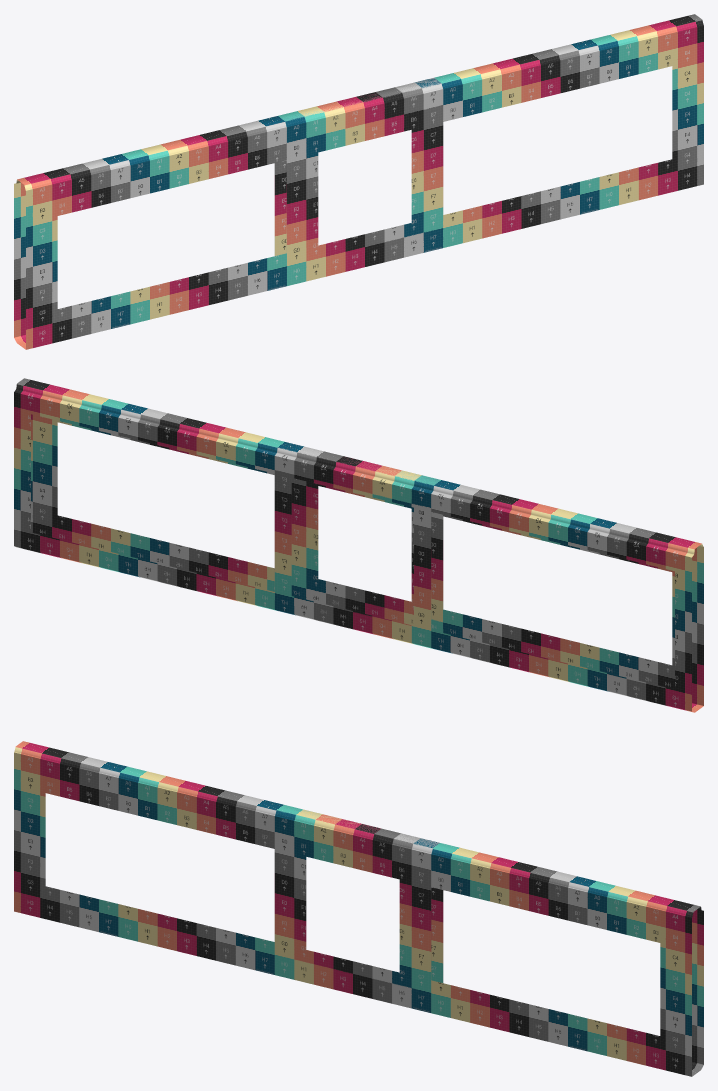
File: bigPlainHole.glb
3 views of the same model, one above another, from view 1: azimuth 30°, elevation 25°; view 2: azimuth 150°, elevation 25°; view 3: azimuth 330°, elevation 25° (orthographic).
Parts seen in each view (by area): view 1: bigPlainWithHoleMax, bigPlainWithHoleMin; view 2: bigPlainWithHoleMax, bigPlainWithHoleMin; view 3: bigPlainWithHoleMax, bigPlainWithHoleMin.
Boxes of the visible parts, x1,y1,x2,y2 form: bigPlainWithHoleMax: (14,14,703,349); bigPlainWithHoleMin: (274,78,443,266); bigPlainWithHoleMax: (14,378,703,712); bigPlainWithHoleMin: (274,444,443,648); bigPlainWithHoleMax: (14,741,703,1076); bigPlainWithHoleMin: (274,805,443,1012).
Size of the model in its own units: 1.3 by 0.3 by 0.04.
1 material, 1 textured.
